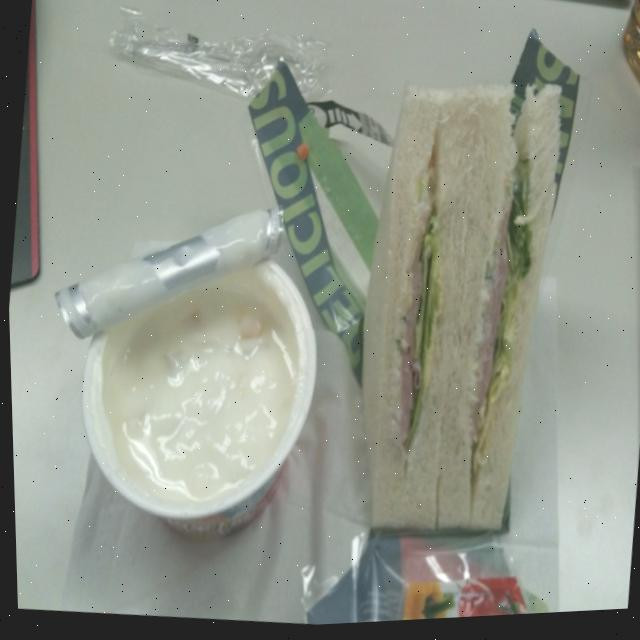三明治: (328, 51, 578, 556)
